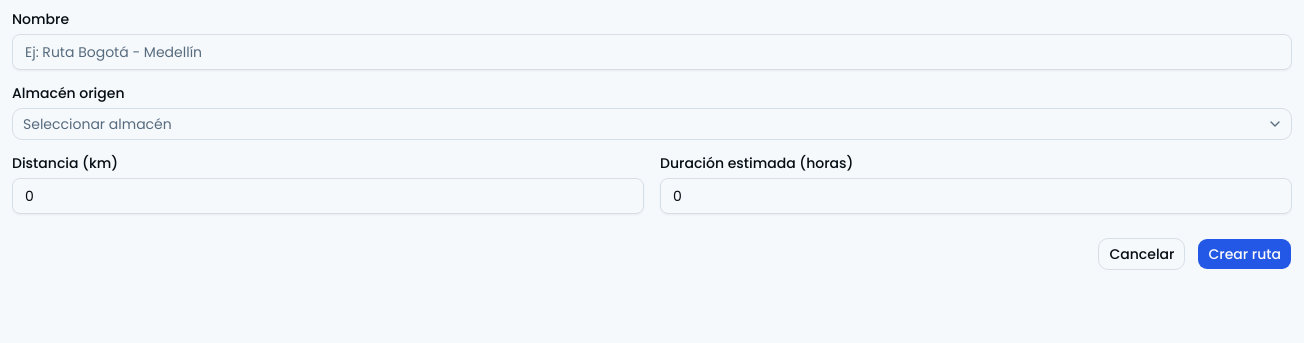
Scenario: RouteForm — validación › muestra 'Selecciona un almacén' cuando no se elige almacén
In the field labelled "Nombre": (652, 52) [12,34,1292,70], type "Ruta Test"
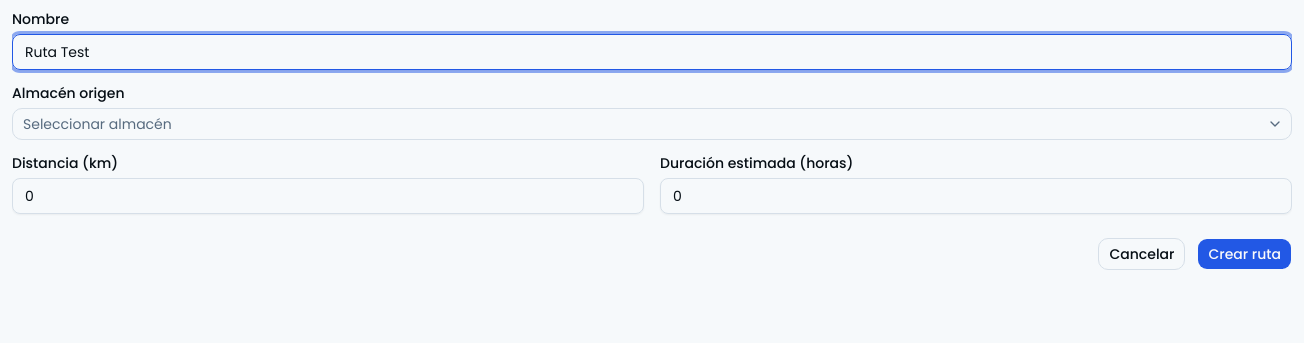
Click the button "Crear ruta": (1245, 254) [1198,238,1292,270]
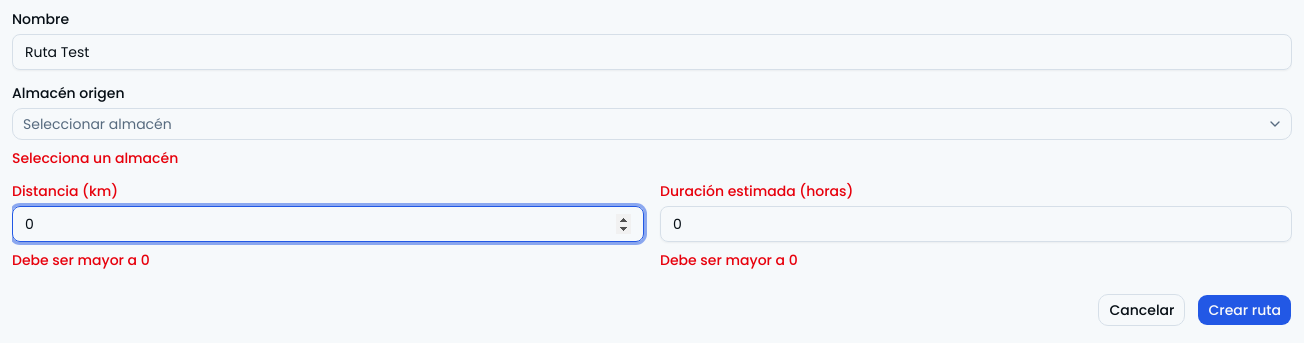
Now the text "Selecciona un almacén" is shown, box [12,148,178,168]
